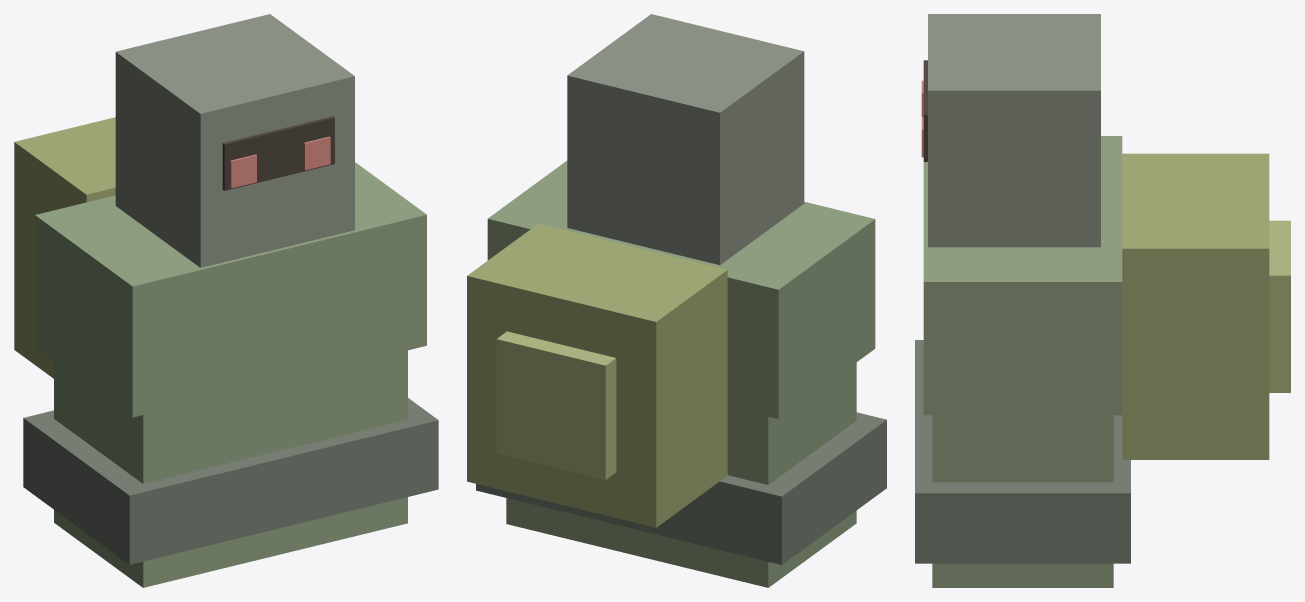
File: zbody_spitter.glb
3 renders of one model, left to right at view 1: azimuth 30°, elevation 25°; view 2: azimuth 150°, elevation 25°; view 3: azimuth 270°, elevation 25°, orthographic. The views are drawn at different scales.
Parts seen in each view (by area): view 1: zbody_spitter; view 2: zbody_spitter; view 3: zbody_spitter.
Part boxes in pixels (box(x1,y1,x2,y2)): zbody_spitter: box(14, 14, 438, 587); zbody_spitter: box(467, 14, 886, 587); zbody_spitter: box(915, 14, 1290, 587).
Bounding box in the file's own units: 0.84 × 1.2 × 0.87.
